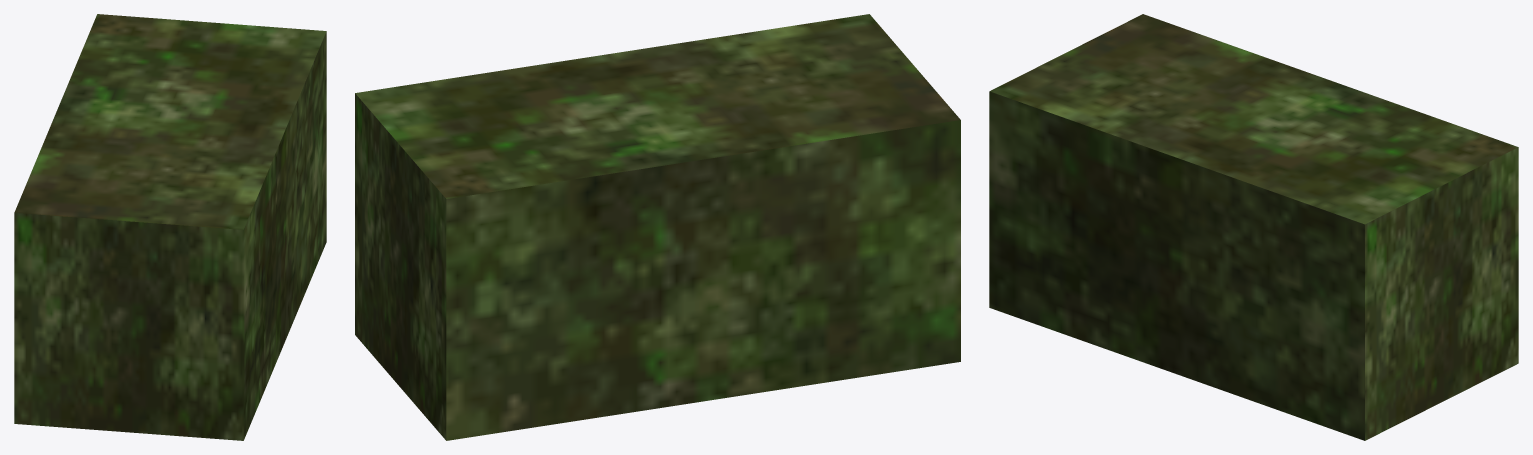
The model's file is OVERHILL_A_01_STONE_BLOCK_20.fbx.
3 views of the same model, side by side, from view 1: azimuth 30°, elevation 25°; view 2: azimuth 150°, elevation 25°; view 3: azimuth 270°, elevation 25° (orthographic). The views are drawn at different scales.
Parts seen in each view (by area): view 1: OVERHILL_A_01_STONE_BLOCK_20; view 2: OVERHILL_A_01_STONE_BLOCK_20; view 3: OVERHILL_A_01_STONE_BLOCK_20.
Part boxes in pixels (x1=…): OVERHILL_A_01_STONE_BLOCK_20: x1=14, y1=14, x2=326, y2=440; OVERHILL_A_01_STONE_BLOCK_20: x1=355, y1=14, x2=960, y2=440; OVERHILL_A_01_STONE_BLOCK_20: x1=989, y1=14, x2=1518, y2=440.
Size of the model in its own units: 16496 by 7913 by 17521.
1 material, 1 textured.
